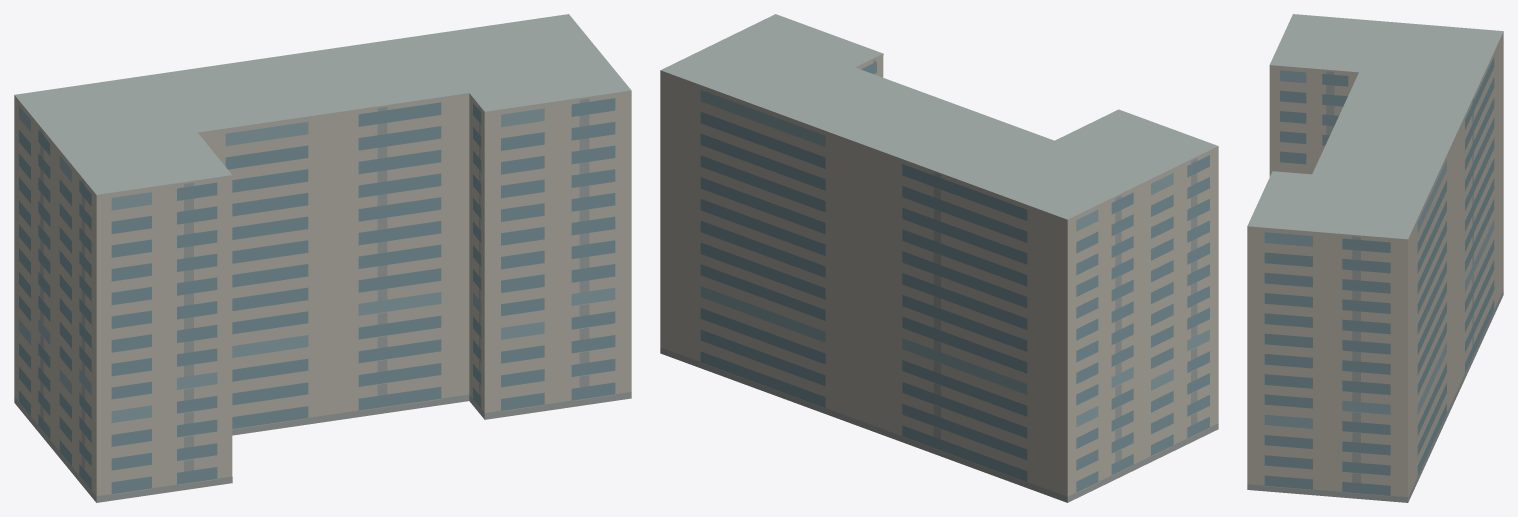
Rendered from survey-upis-32774704.glb.
The picture shows the model from 3 angles, left to right: view 1: azimuth 30°, elevation 25°; view 2: azimuth 150°, elevation 25°; view 3: azimuth 270°, elevation 25°; orthographic projection. The views are drawn at different scales.
Parts seen in each view (by area): view 1: survey-upis-32774704.tmp; view 2: survey-upis-32774704.tmp; view 3: survey-upis-32774704.tmp.
Boxes of the visible parts, <box> form: survey-upis-32774704.tmp: <box>14,14,631,502</box>; survey-upis-32774704.tmp: <box>660,14,1218,502</box>; survey-upis-32774704.tmp: <box>1247,14,1503,502</box>.
Size of the model in its own units: 72.71 by 39.65 by 34.98.
